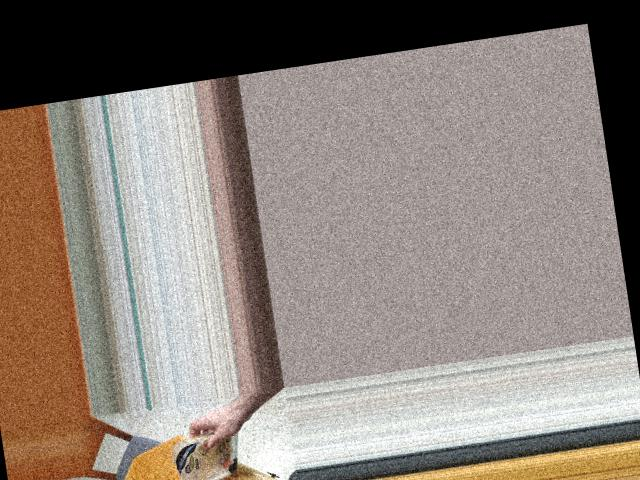cheese: (167, 429, 247, 480)
